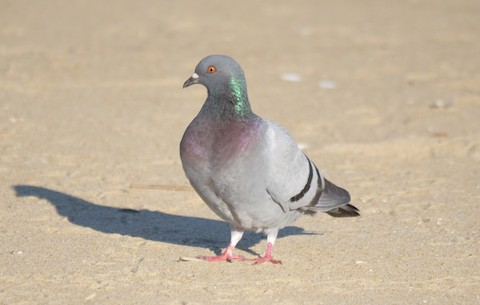pigeon: (179, 53, 361, 267)
